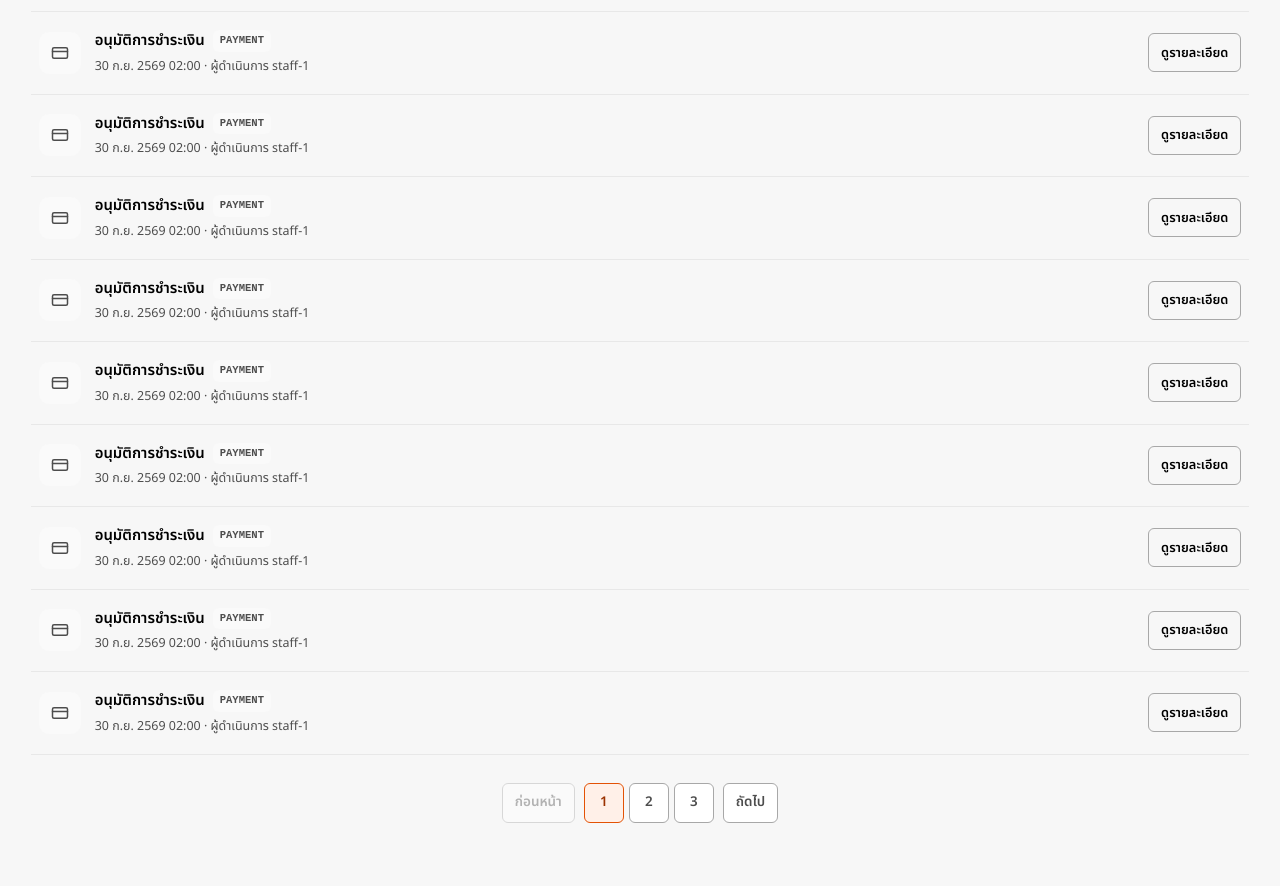
Scenario: AuditView › fetches an opaque cursor when next numbered page needs more than cached records
(page scrolled)
What coordinates should you click on to do the following:
click the button named "หน้า 2"
I would click on:
 (649, 803)
Its box is [629, 783, 669, 823].
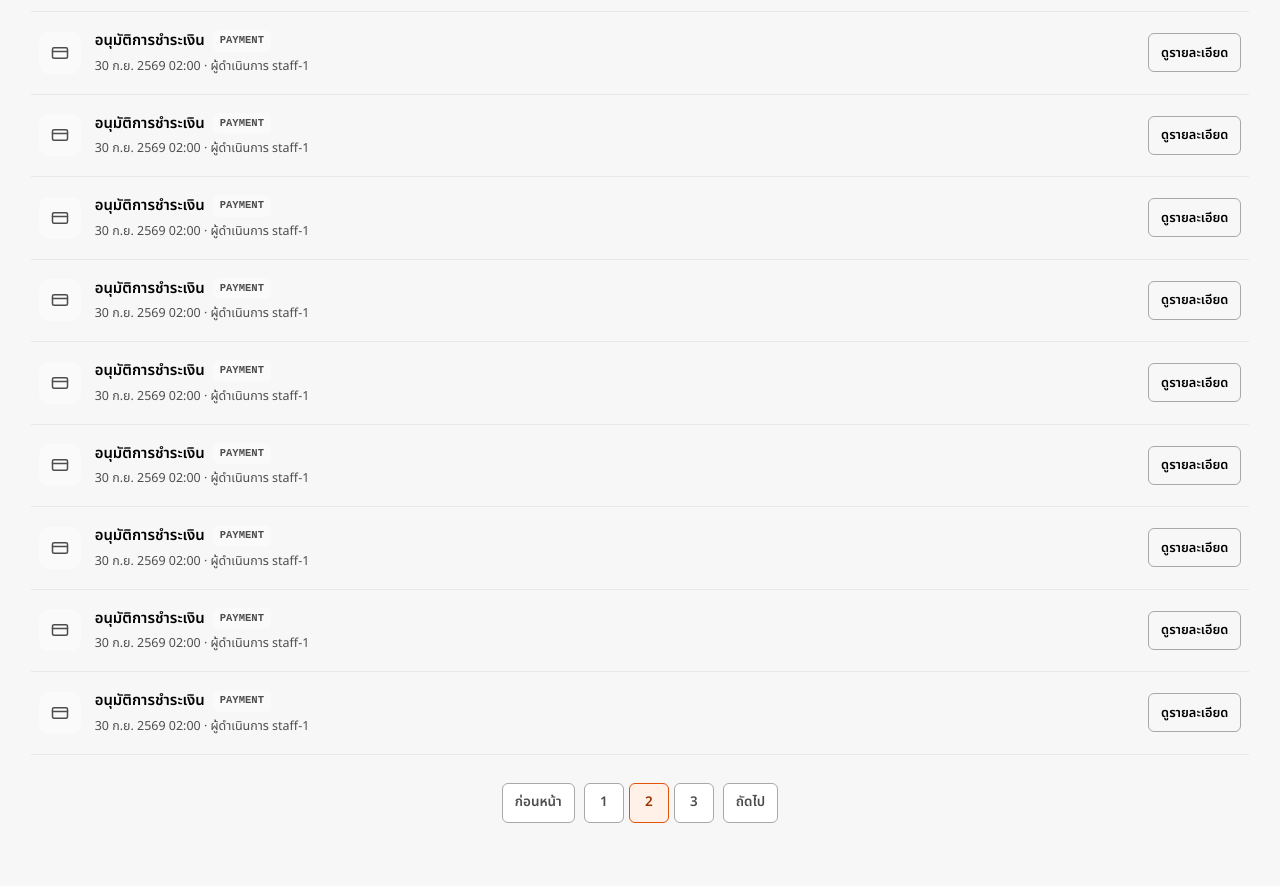
What coordinates should you click on to do the following:
click the button named "หน้า 3"
I would click on:
 (694, 803)
Its box is [674, 783, 714, 823].
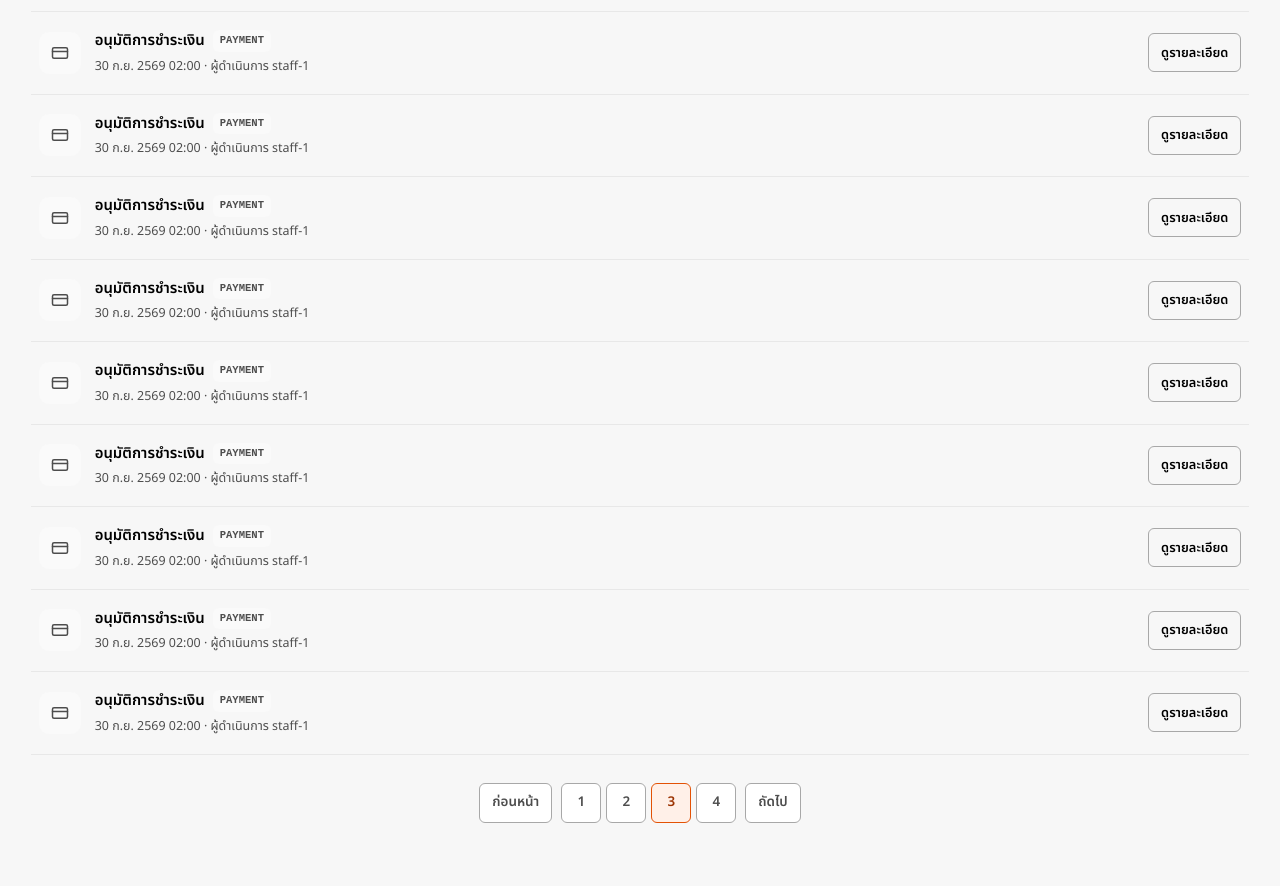
Expected: the button with aria-label "ดูรายละเอียด PAYMENT_APPROVED audit-30" is shown, [1148, 693, 1241, 732]
What coordinates should you click on to do the following:
click the button named "หน้า 1"
I would click on:
 (581, 803)
Its box is [561, 783, 601, 823].
(page scrolled)
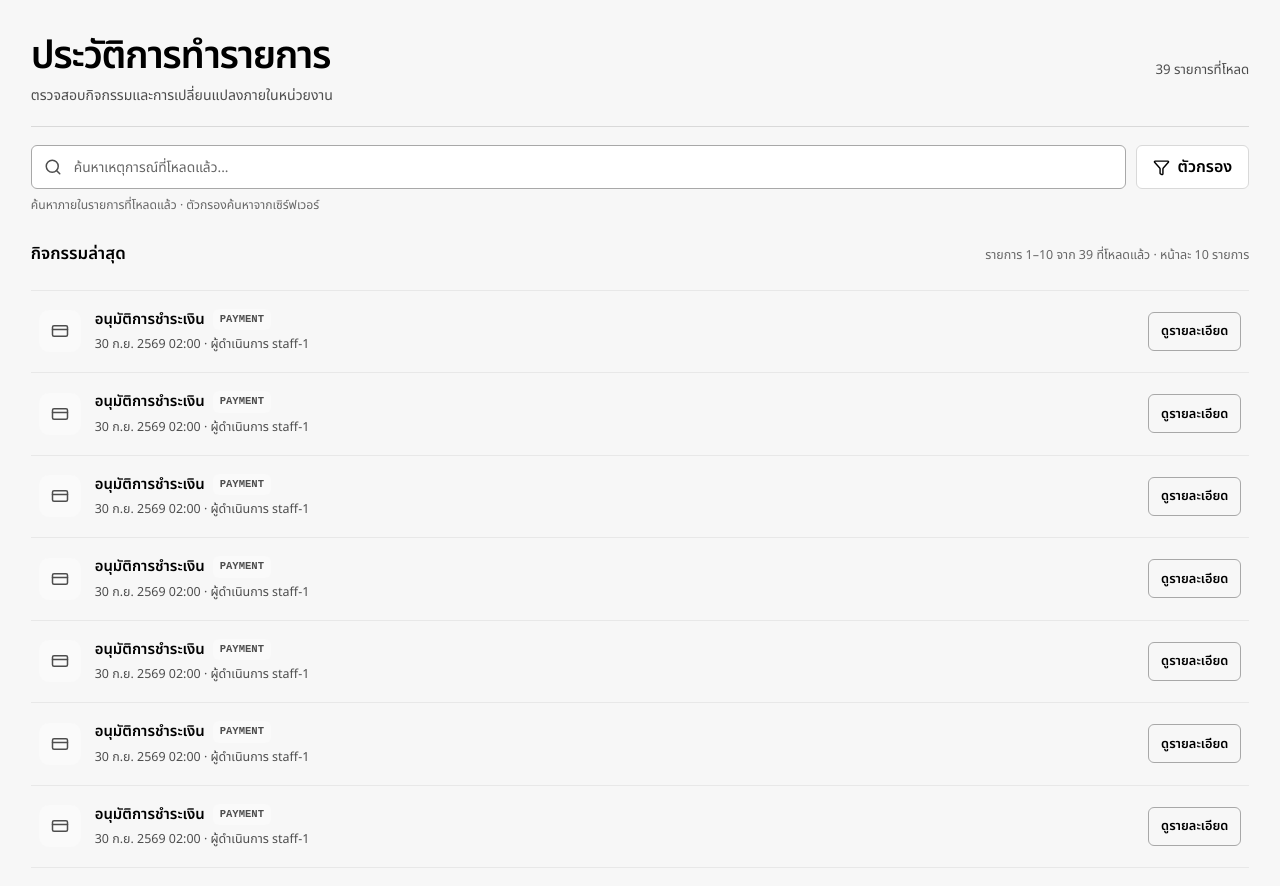
Result: the button with aria-label "ดูรายละเอียด PAYMENT_APPROVED audit-1" is shown at [1148, 312, 1241, 351]
